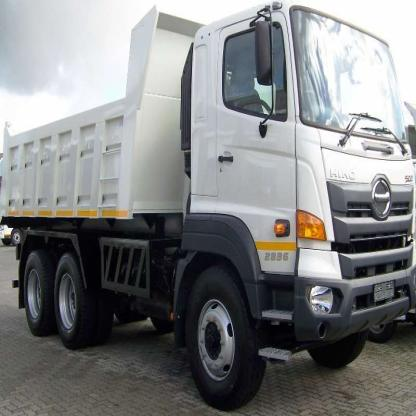dump_truck: (2, 5, 414, 407)
